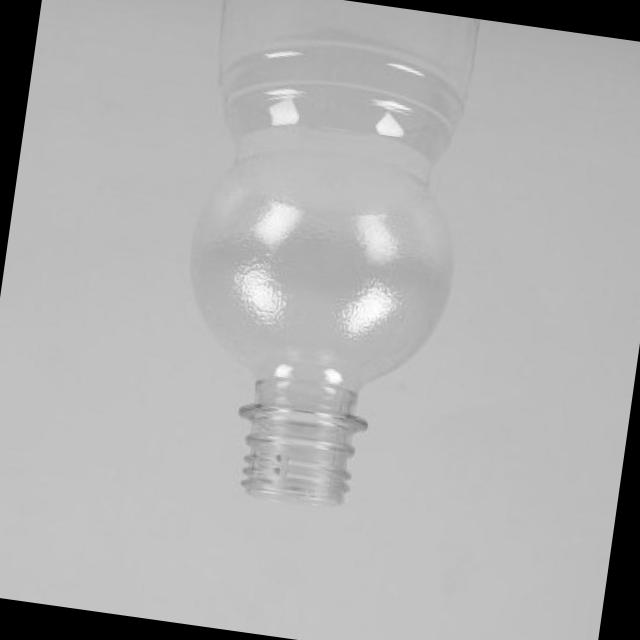plastic_bottle: (152, 0, 484, 523)
